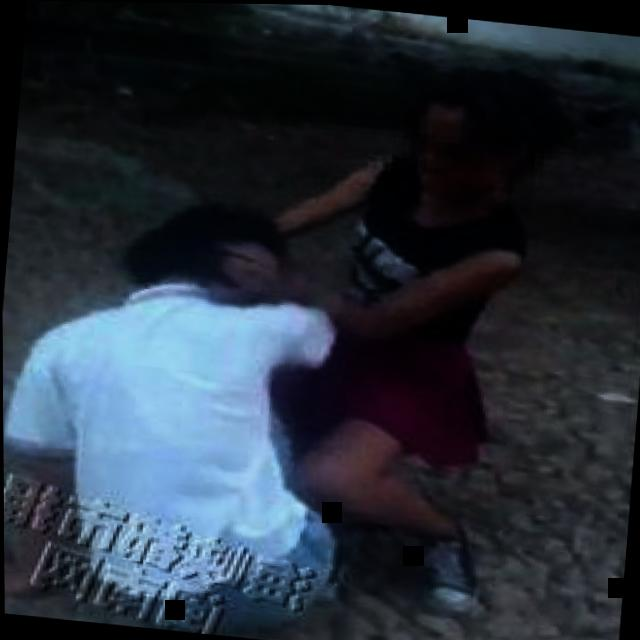Fall-Detected: (1, 176, 400, 640)
